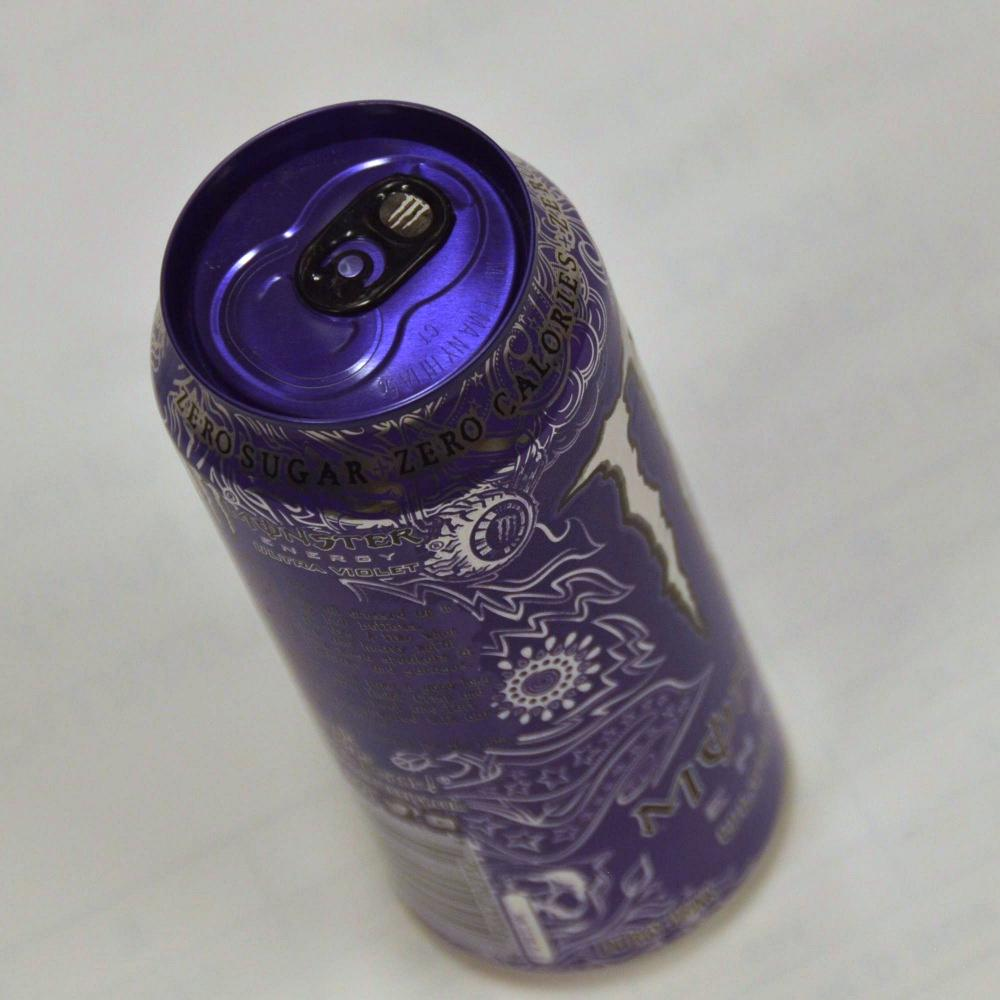Metal: (96, 93, 816, 1000)
